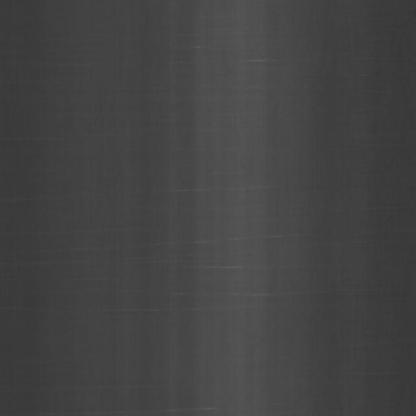waist_folding: (179, 84, 294, 360)
